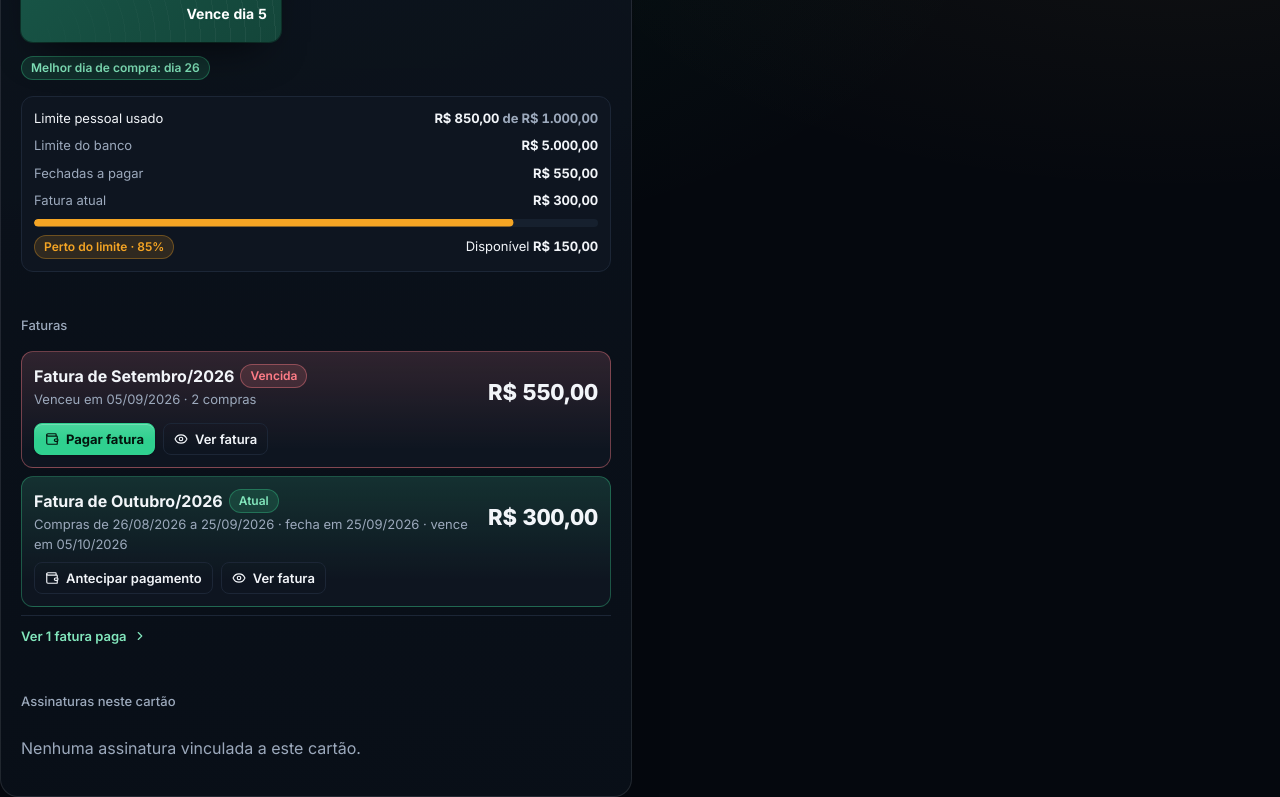
MEL-23 · faturas no cartão › "Ver fatura" lista os itens com data, categoria e valor com sinal
(page scrolled)
Click the button with aria-label "Ver fatura de Outubro/2026 de Visa": (273, 578) [221,562,326,594]
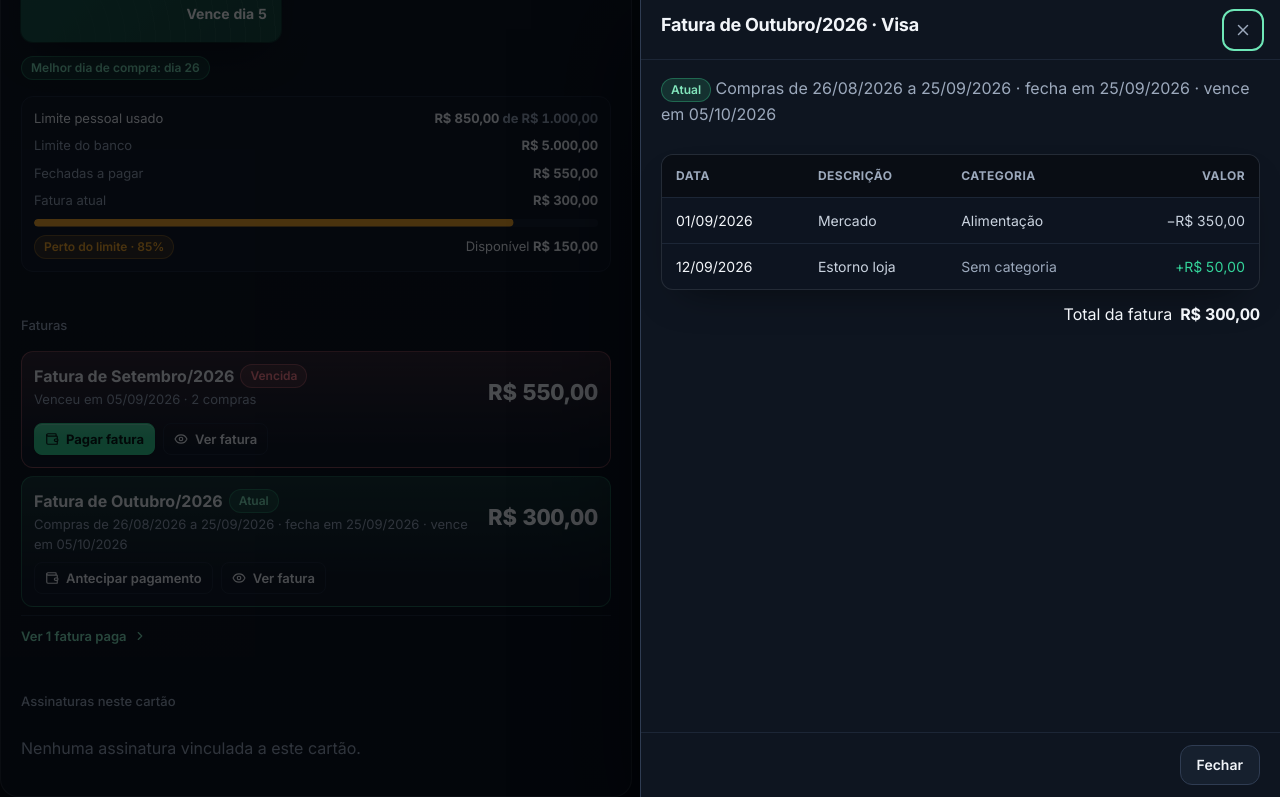
Check: the row "01/09/2026 Mercado Alimentação −R$ 350,00" is shown, box [662,198,1259,244]
Check: the text "−R$ 350,00" is shown, box [1166,212,1245,229]
Check: the text "+R$ 50,00" is shown, box [1175,258,1245,275]
